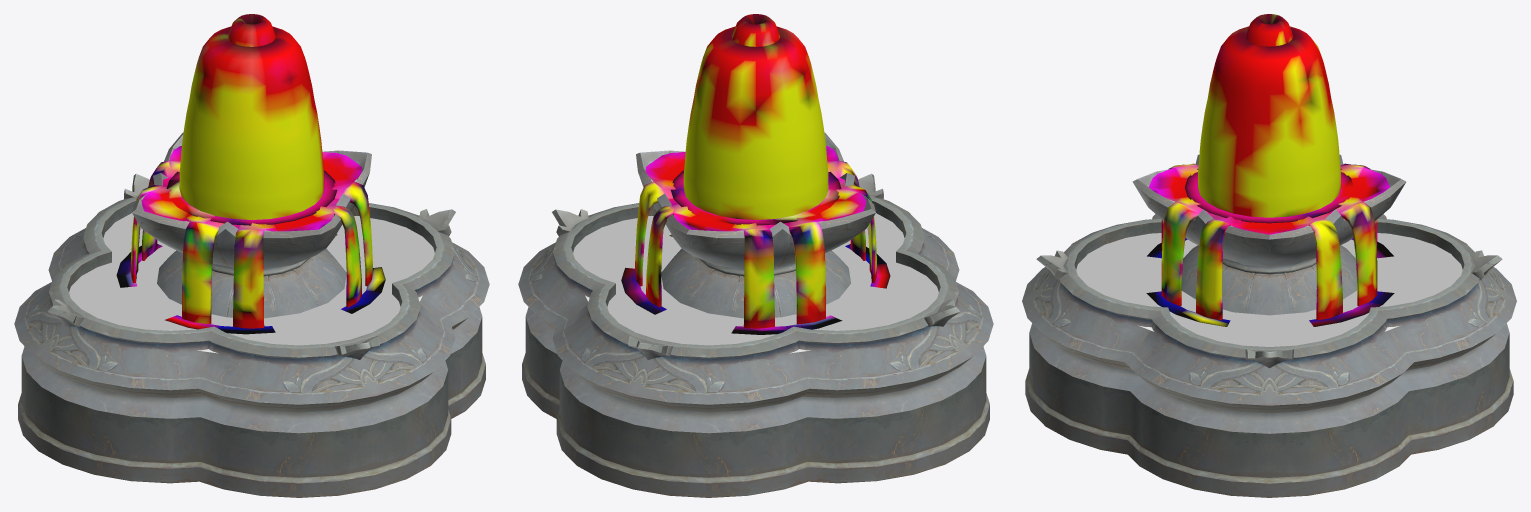
File: Homeworld_Exterior_Xm_Decoration_Prop_Penquansmall_01_Lod0.fbx
The picture shows the model from 3 angles, left to right: view 1: azimuth 30°, elevation 25°; view 2: azimuth 150°, elevation 25°; view 3: azimuth 270°, elevation 25°; orthographic projection.
Visible parts, largest first — view 1: Area_Xm_Prop_XKC_Chengshipingquan_01_Lod0, Area_Xm_Prop_XKC_Chengshipingquan_02_03_Vo, Area_Xm_Prop_XKC_Chengshipingquan_02_02_Vo, Area_Xm_Prop_XKC_Chengshipingquan_02_01_Vo, Area_Xm_Prop_XKC_Chengshipingquan_02_04_Vo; view 2: Area_Xm_Prop_XKC_Chengshipingquan_01_Lod0, Area_Xm_Prop_XKC_Chengshipingquan_02_03_Vo, Area_Xm_Prop_XKC_Chengshipingquan_02_02_Vo, Area_Xm_Prop_XKC_Chengshipingquan_02_01_Vo, Area_Xm_Prop_XKC_Chengshipingquan_02_04_Vo; view 3: Area_Xm_Prop_XKC_Chengshipingquan_01_Lod0, Area_Xm_Prop_XKC_Chengshipingquan_02_03_Vo, Area_Xm_Prop_XKC_Chengshipingquan_02_02_Vo, Area_Xm_Prop_XKC_Chengshipingquan_02_01_Vo, Area_Xm_Prop_XKC_Chengshipingquan_02_04_Vo.
Boxes of the visible parts, x1=… form: Area_Xm_Prop_XKC_Chengshipingquan_01_Lod0: x1=14, y1=132, x2=489, y2=497; Area_Xm_Prop_XKC_Chengshipingquan_02_03_Vo: x1=179, y1=14, x2=324, y2=219; Area_Xm_Prop_XKC_Chengshipingquan_02_02_Vo: x1=69, y1=213, x2=434, y2=345; Area_Xm_Prop_XKC_Chengshipingquan_02_01_Vo: x1=131, y1=146, x2=372, y2=328; Area_Xm_Prop_XKC_Chengshipingquan_02_04_Vo: x1=116, y1=170, x2=385, y2=334; Area_Xm_Prop_XKC_Chengshipingquan_01_Lod0: x1=518, y1=132, x2=993, y2=497; Area_Xm_Prop_XKC_Chengshipingquan_02_03_Vo: x1=683, y1=14, x2=828, y2=219; Area_Xm_Prop_XKC_Chengshipingquan_02_02_Vo: x1=573, y1=213, x2=938, y2=345; Area_Xm_Prop_XKC_Chengshipingquan_02_01_Vo: x1=635, y1=146, x2=876, y2=328; Area_Xm_Prop_XKC_Chengshipingquan_02_04_Vo: x1=621, y1=170, x2=890, y2=334; Area_Xm_Prop_XKC_Chengshipingquan_01_Lod0: x1=1022, y1=154, x2=1516, y2=497; Area_Xm_Prop_XKC_Chengshipingquan_02_03_Vo: x1=1197, y1=14, x2=1341, y2=217; Area_Xm_Prop_XKC_Chengshipingquan_02_02_Vo: x1=1076, y1=233, x2=1462, y2=346; Area_Xm_Prop_XKC_Chengshipingquan_02_01_Vo: x1=1149, y1=163, x2=1389, y2=320; Area_Xm_Prop_XKC_Chengshipingquan_02_04_Vo: x1=1146, y1=169, x2=1394, y2=326.
Bounding box in the file's own units: 7.16 × 5.99 × 7.16.
